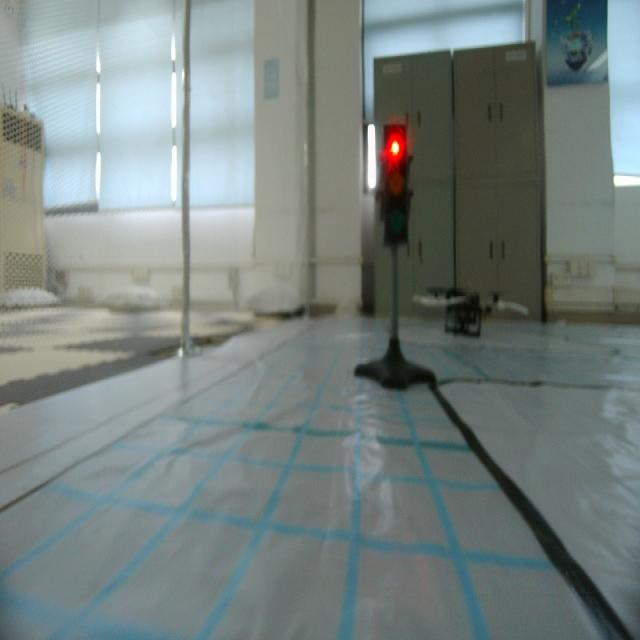red: (378, 118, 413, 254)
